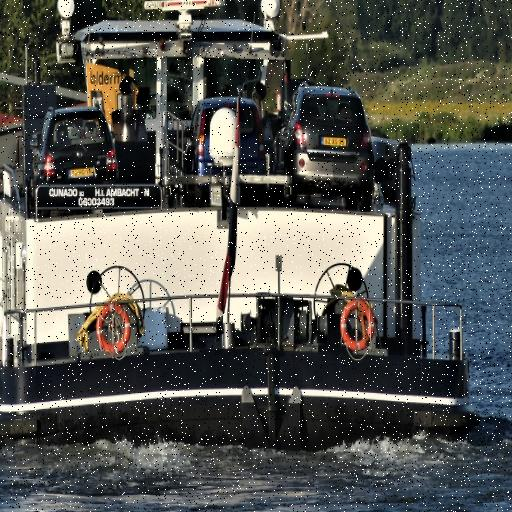tugboat: (1, 1, 479, 468)
